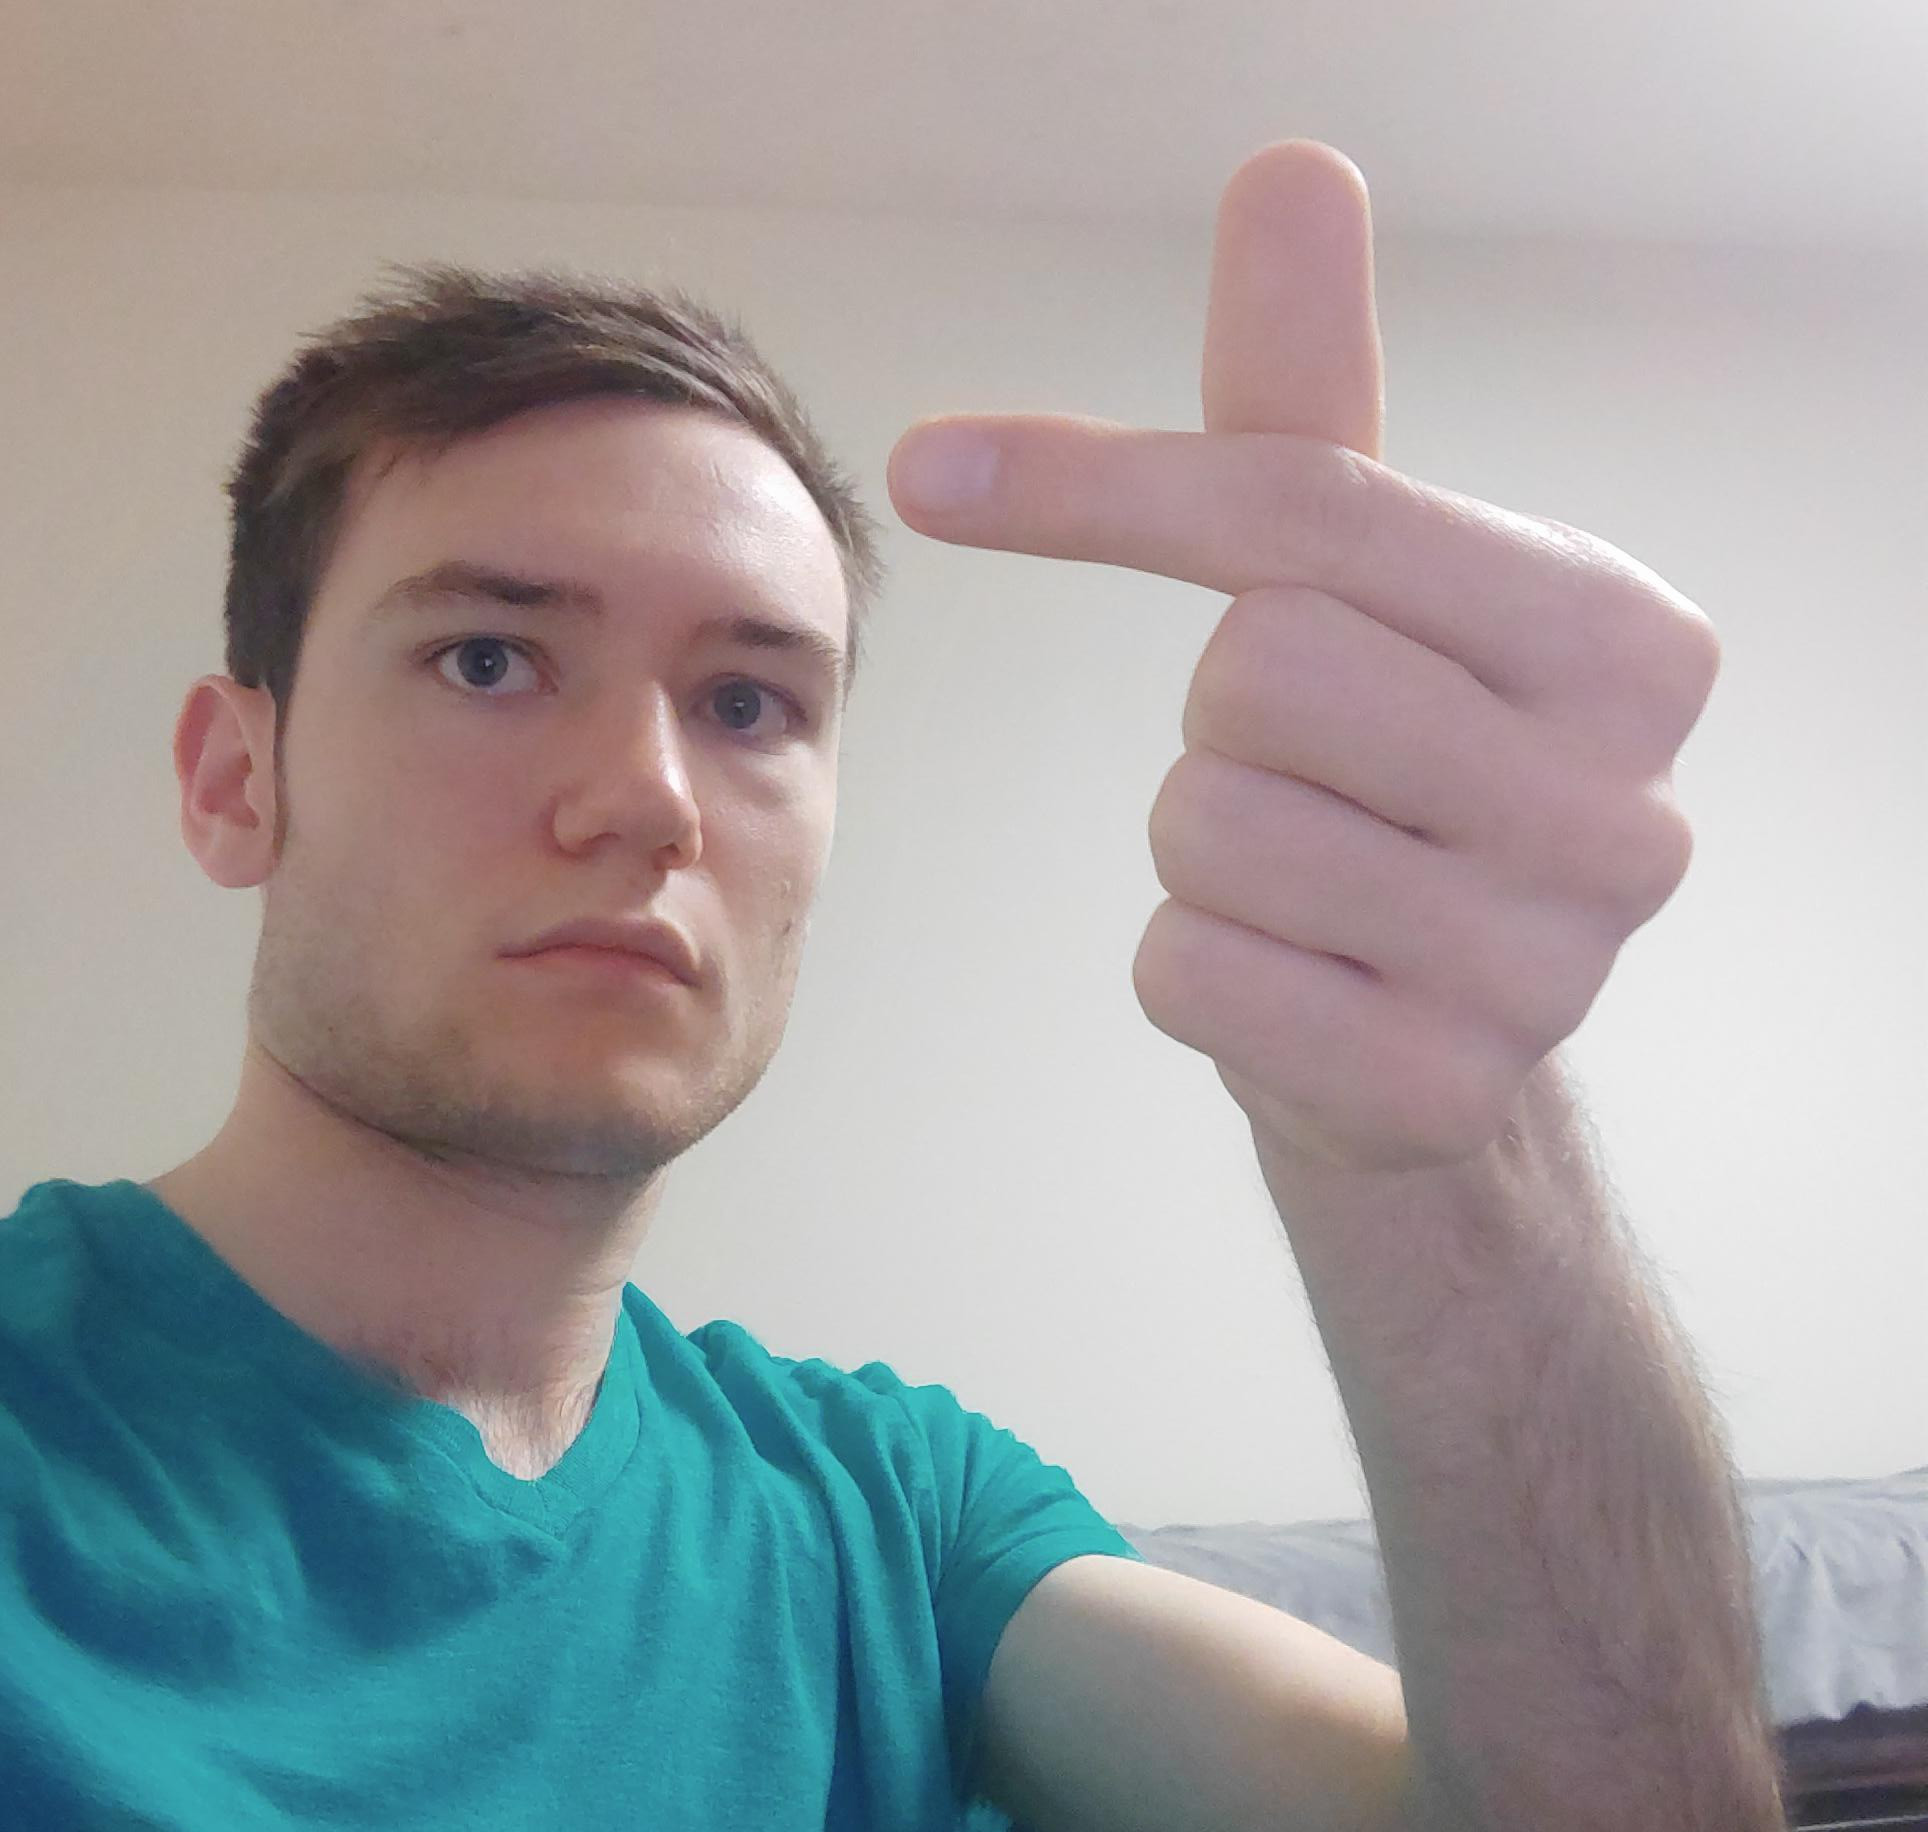heart gesture: (883, 126, 1401, 589)
